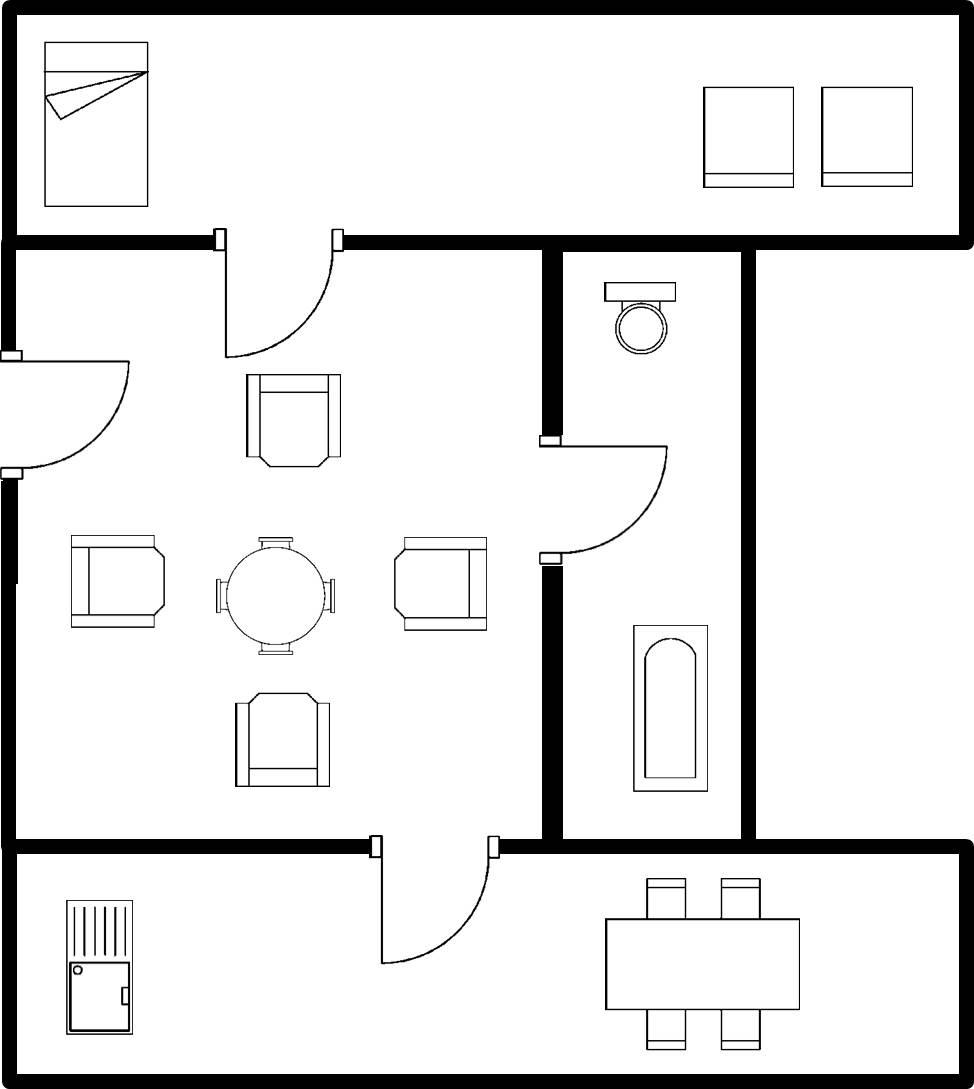bed: (34, 33, 155, 215)
dining_table: (596, 870, 805, 1056)
round_table: (206, 527, 344, 661)
sink: (57, 892, 141, 1041)
toilet: (597, 273, 681, 358)
tub: (624, 618, 715, 801)
